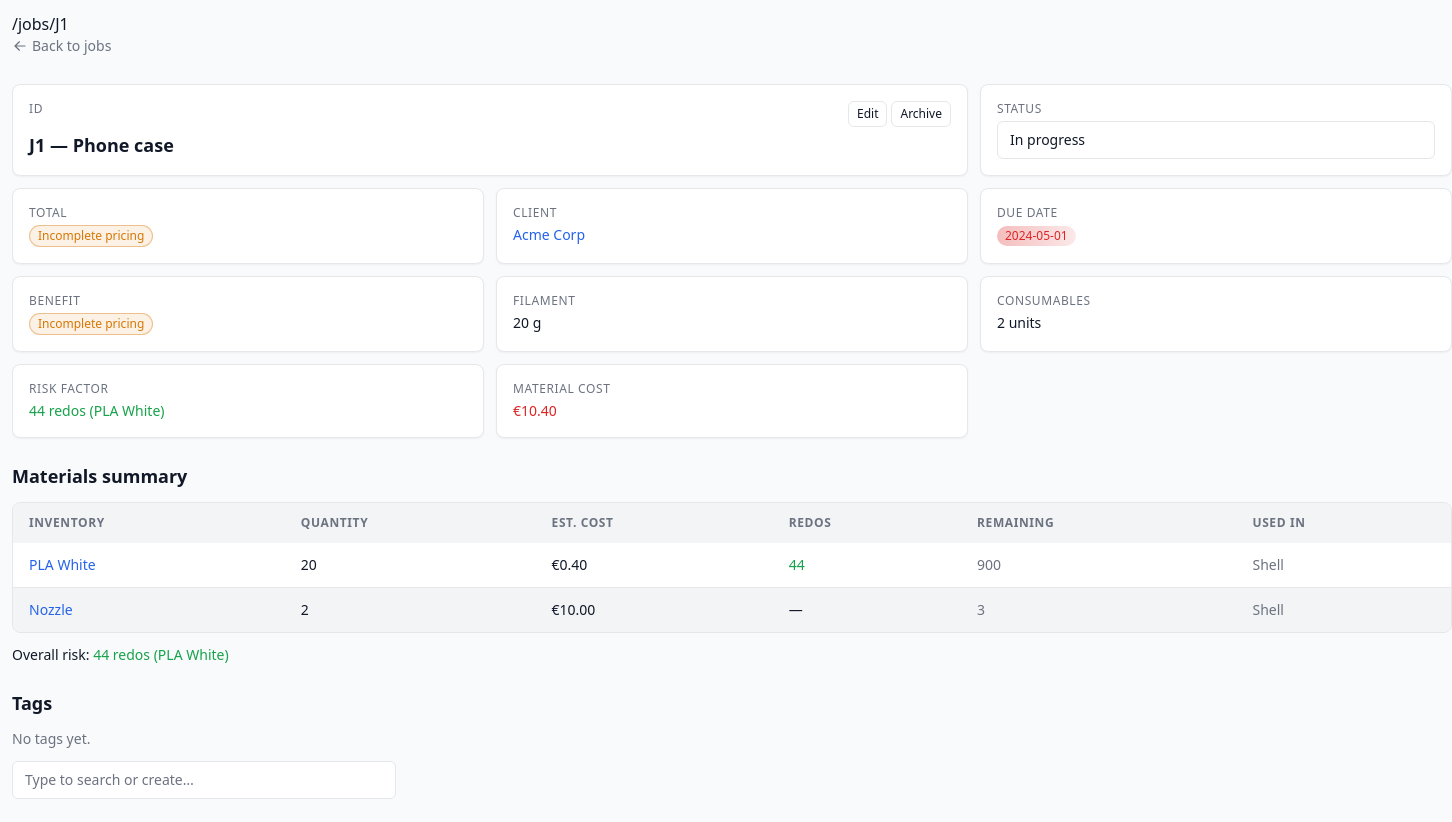
Test case: JobDetailPage › leaves the due date alone when the inline edit changes nothing
Click the button with test id "job-due-date-edit".
click(1036, 236)  # box [997,225,1076,246]
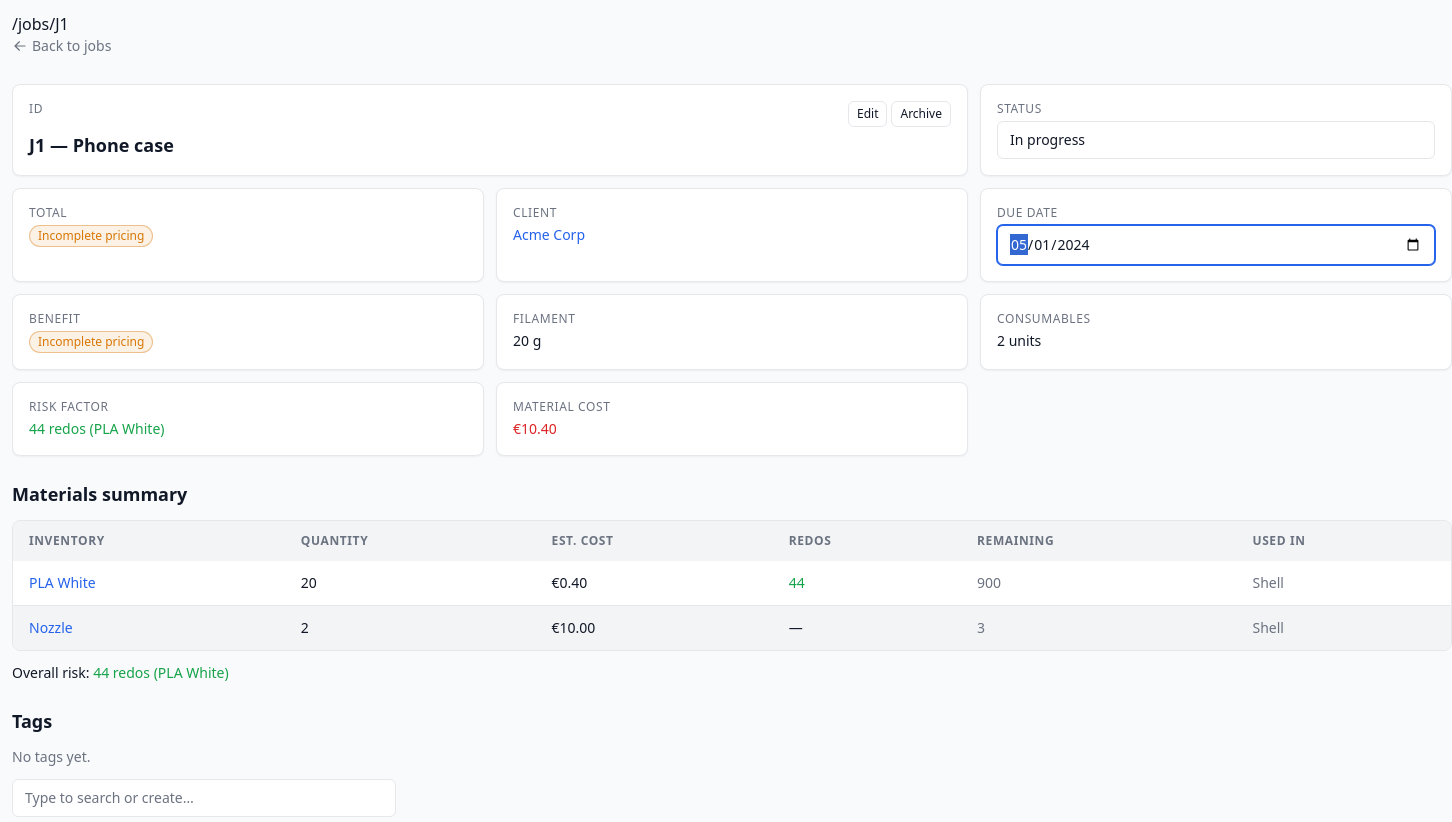
Press Tab
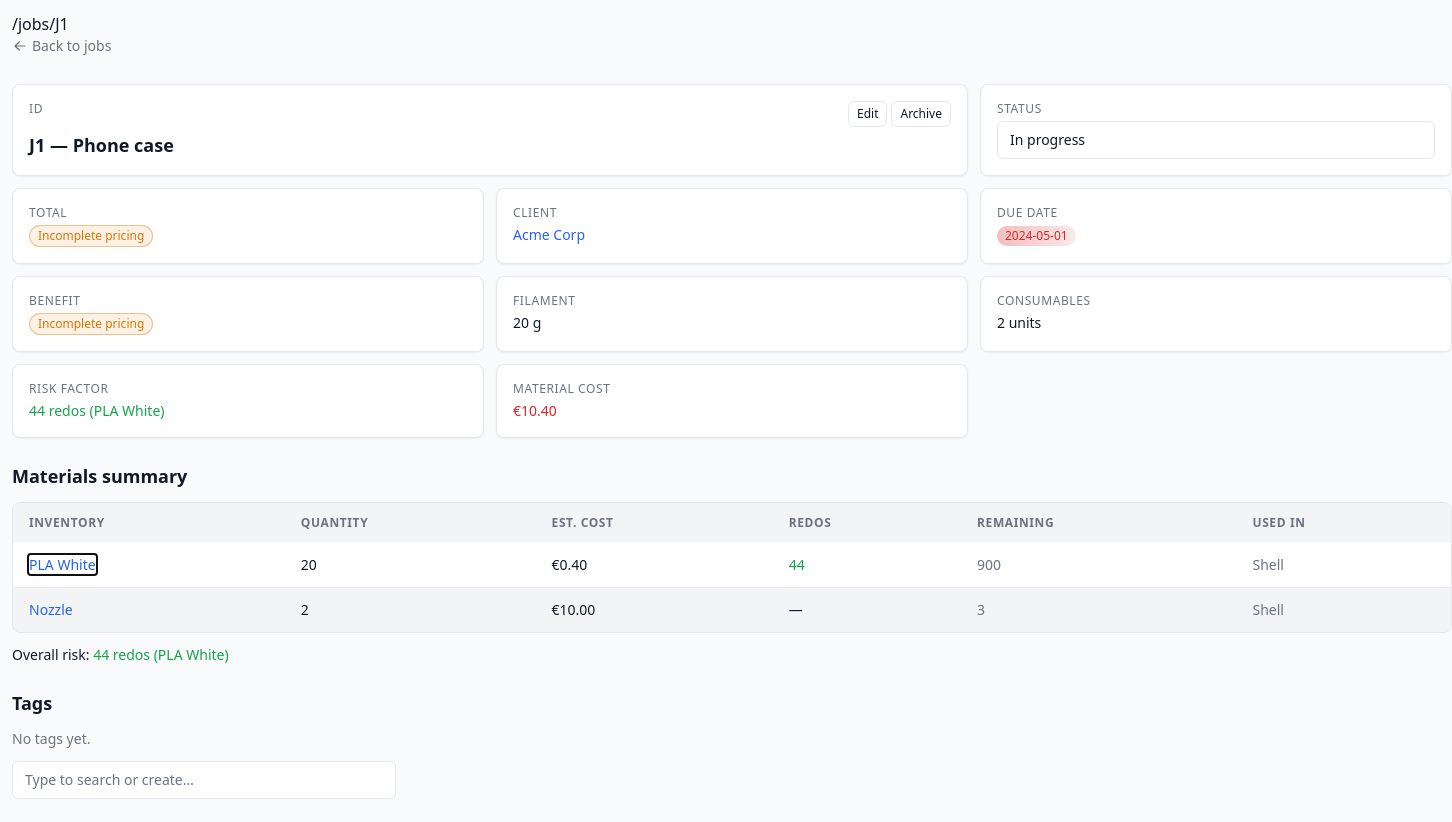
Result: the text "2024-05-01" is shown at [997,226,1076,246]
